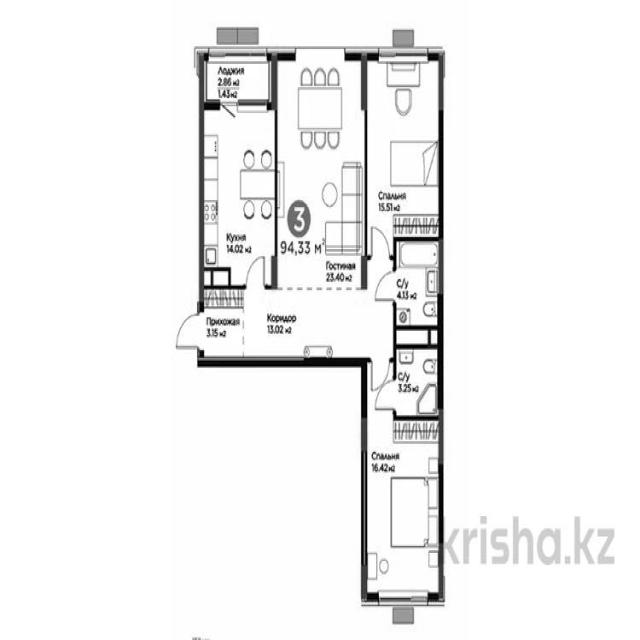balcony: (205, 54, 271, 100)
bathroom: (394, 238, 438, 325), (397, 351, 439, 413)
hallway: (205, 288, 362, 354)
kitchen: (202, 109, 274, 283)
living_room: (279, 52, 361, 287), (366, 54, 439, 240), (366, 416, 440, 596)
